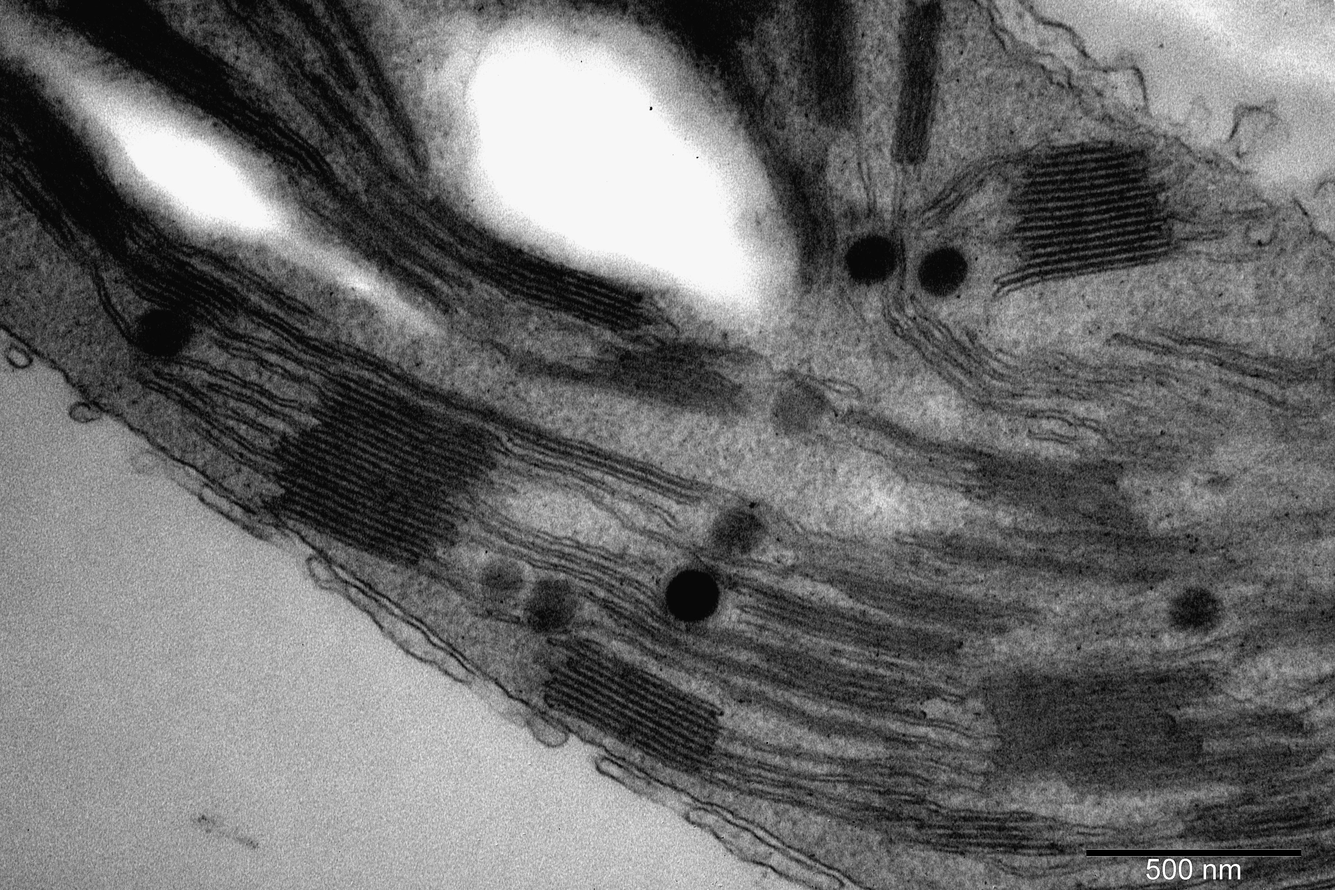granum: (26, 0, 336, 178), (258, 366, 499, 577), (972, 653, 1291, 798), (1, 57, 147, 253), (541, 634, 723, 781), (1008, 137, 1178, 290), (733, 577, 995, 670), (505, 415, 705, 508), (478, 240, 643, 335), (756, 642, 931, 727), (828, 565, 1020, 637), (965, 446, 1127, 530), (600, 337, 742, 419), (121, 242, 246, 326), (760, 152, 838, 286), (632, 0, 774, 71), (792, 0, 860, 128), (890, 5, 944, 165), (1188, 789, 1335, 843), (1005, 349, 1138, 405), (929, 801, 1045, 857), (1237, 604, 1335, 652)
